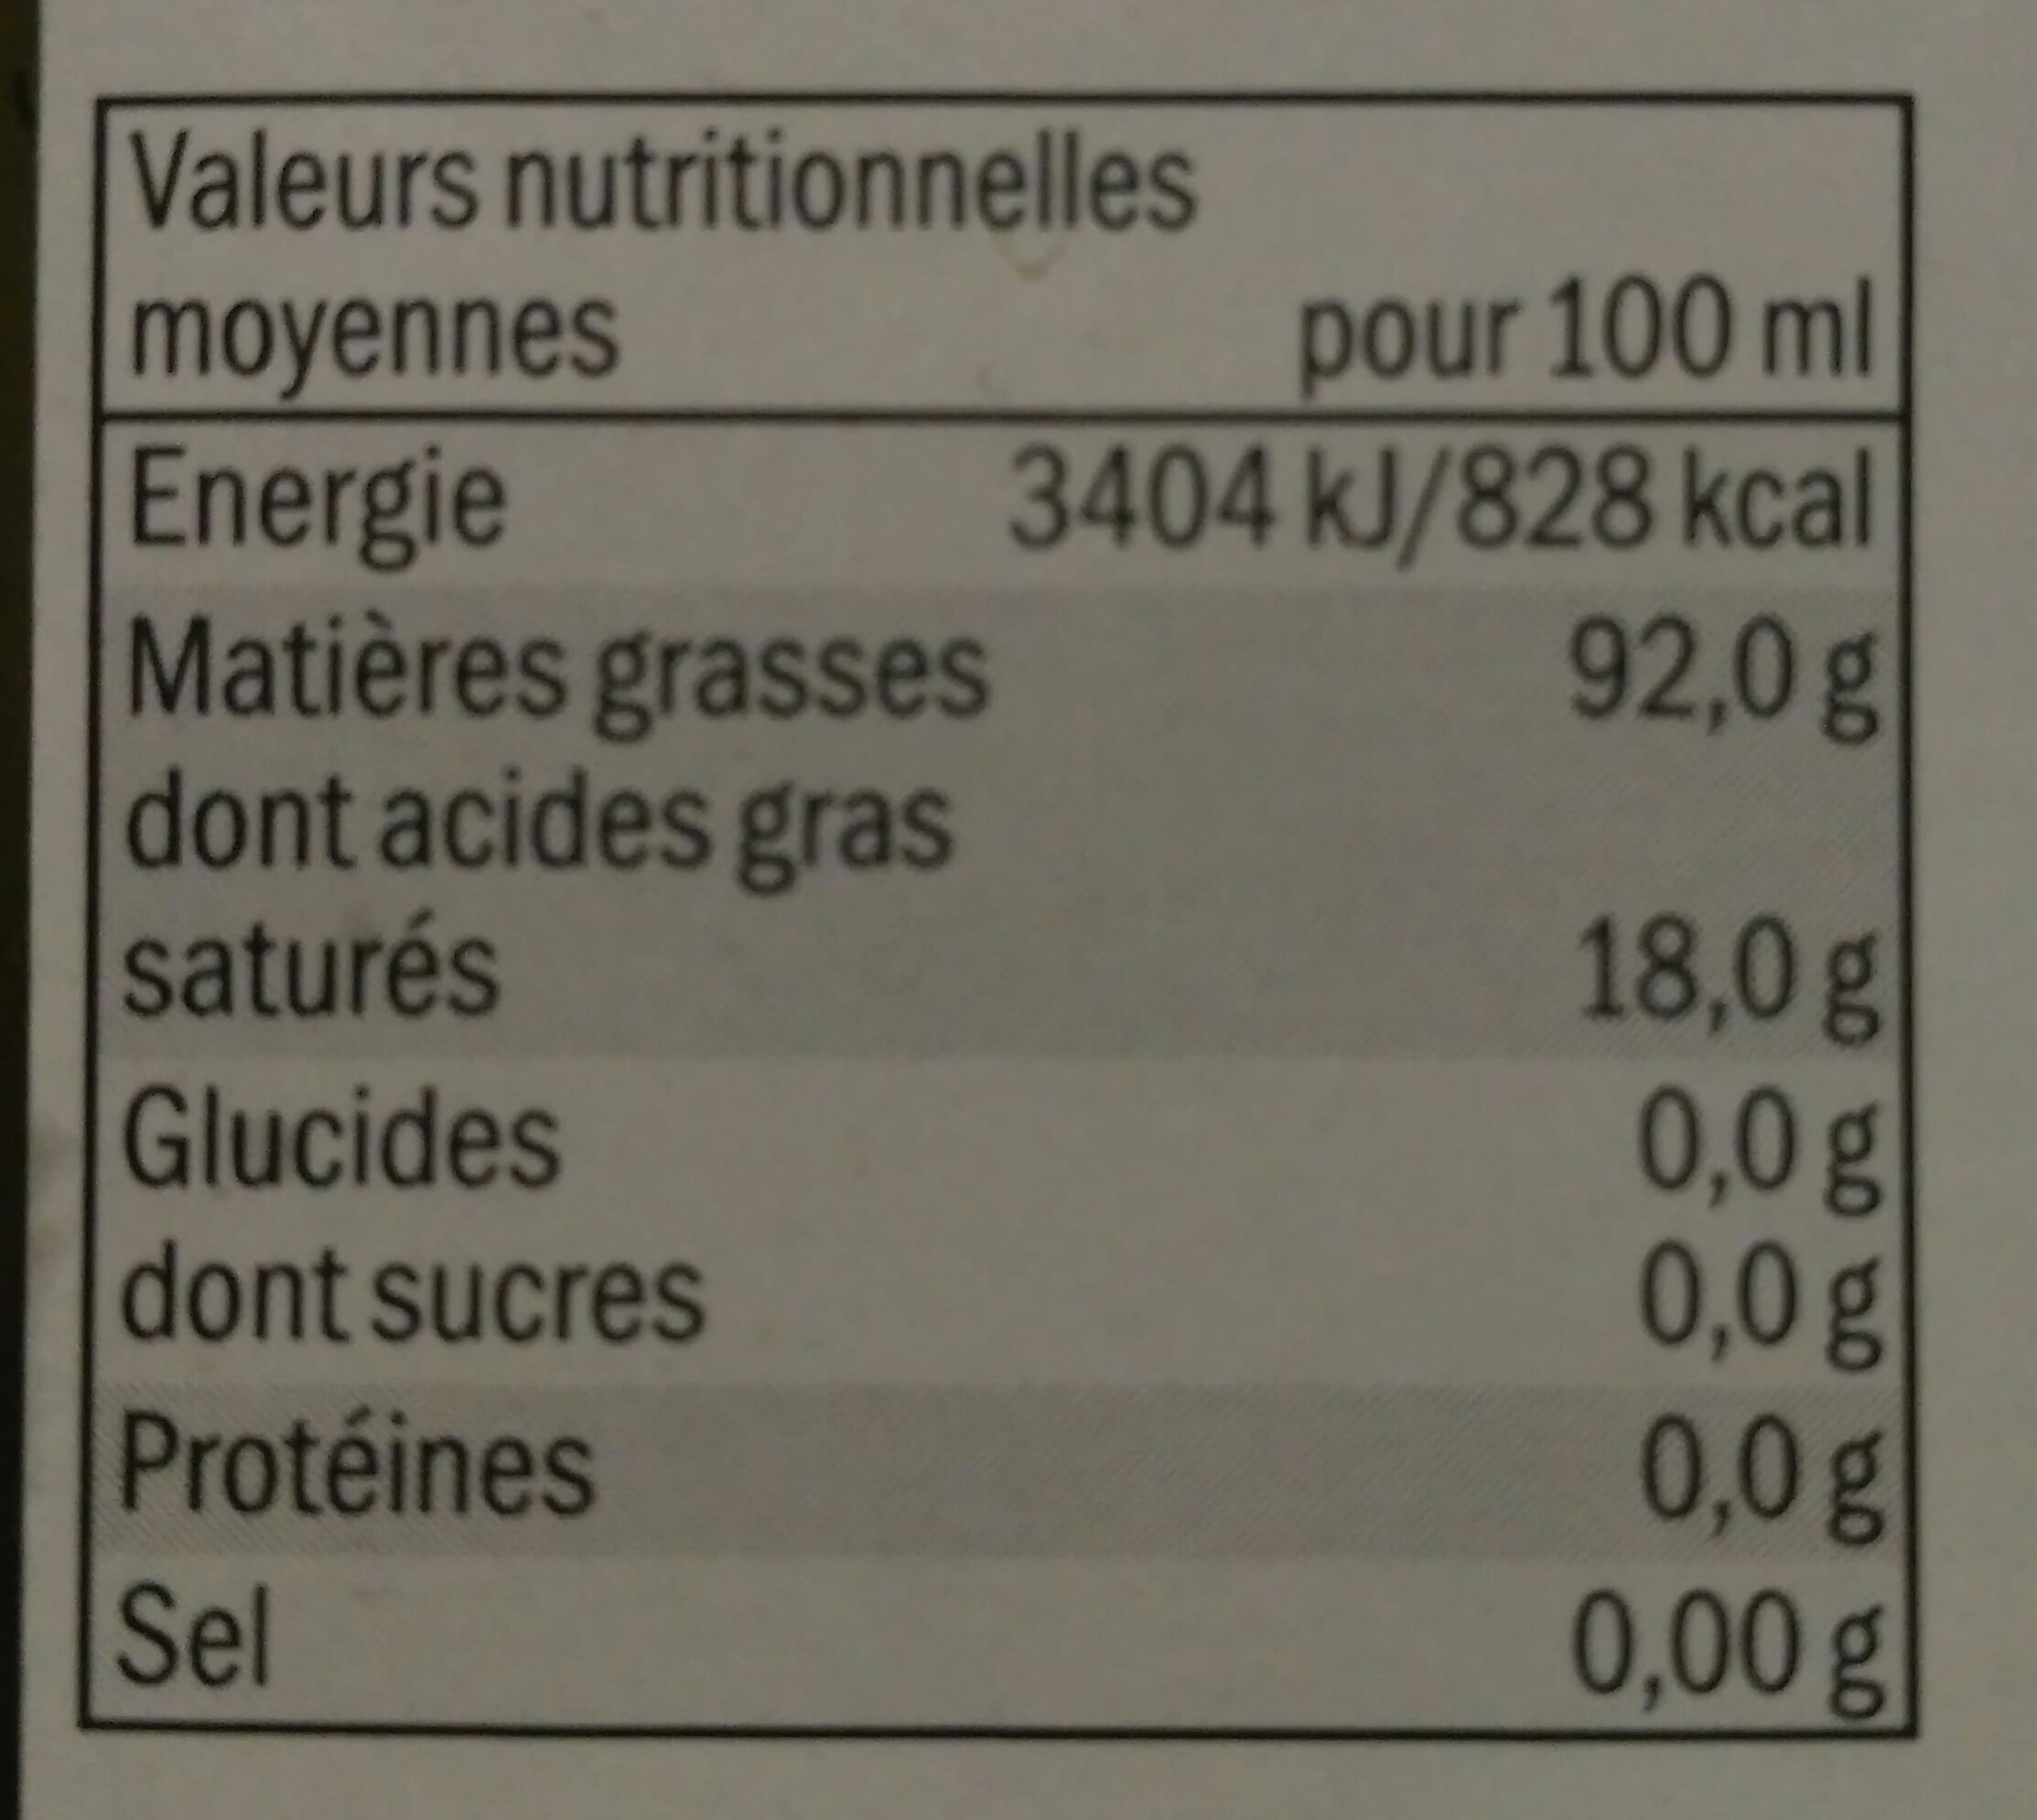column: (104, 413, 1003, 1711), (1017, 411, 1904, 1727)
table: (97, 406, 1916, 1729)
